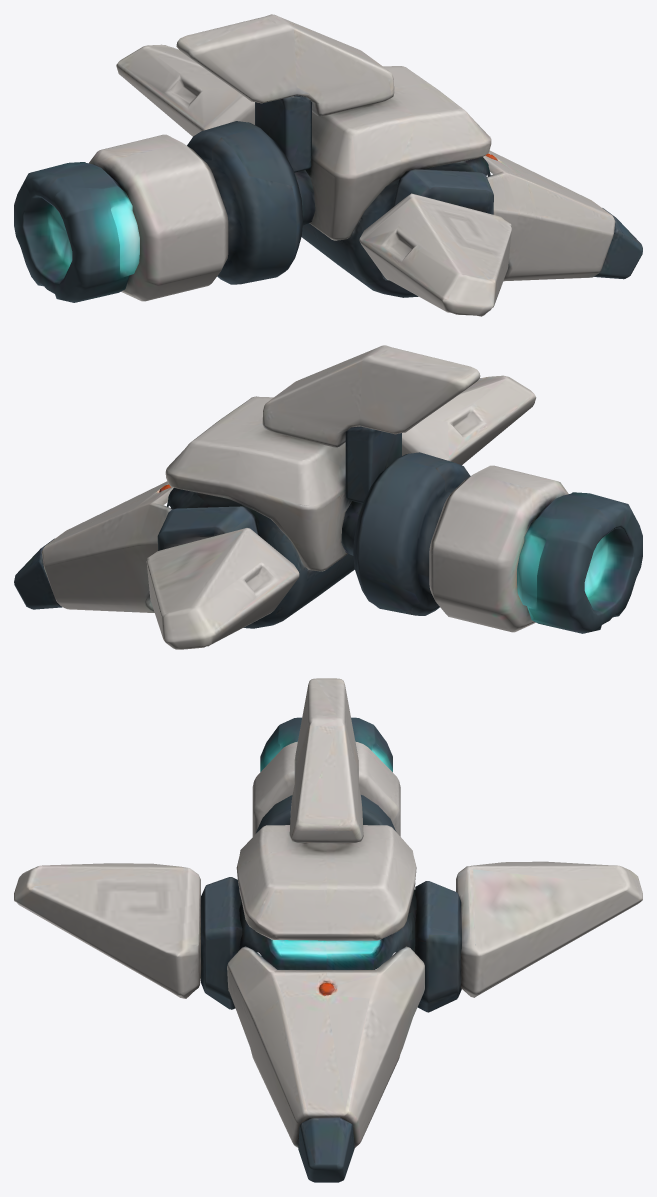
The model's file is mecha_swarmdrone.glb.
The picture shows the model from 3 angles, top to bottom: view 1: azimuth 30°, elevation 25°; view 2: azimuth 150°, elevation 25°; view 3: azimuth 270°, elevation 25°; orthographic projection. The views are drawn at different scales.
Parts seen in each view (by area): view 1: tripo_node_7afe5290-6ffa-476e-947b-284a5391b28c; view 2: tripo_node_7afe5290-6ffa-476e-947b-284a5391b28c; view 3: tripo_node_7afe5290-6ffa-476e-947b-284a5391b28c.
Boxes of the visible parts, x1,y1,x2,y2 form: tripo_node_7afe5290-6ffa-476e-947b-284a5391b28c: [14, 14, 642, 316]; tripo_node_7afe5290-6ffa-476e-947b-284a5391b28c: [14, 345, 642, 649]; tripo_node_7afe5290-6ffa-476e-947b-284a5391b28c: [14, 678, 642, 1182].
Size of the model in its own units: 0.998 by 0.5449 by 0.998.
1 material, 1 textured.
